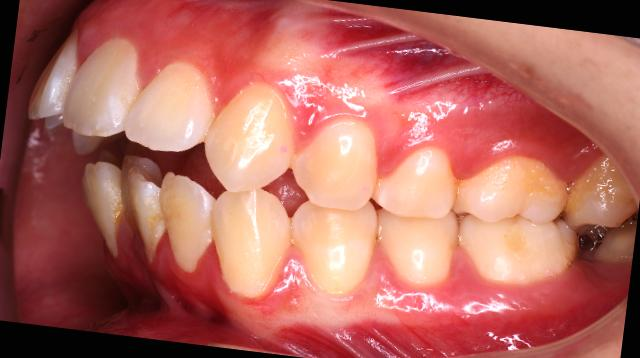canine class II 3/4: (184, 60, 398, 328)
molar class II 1/2: (446, 136, 594, 298)
